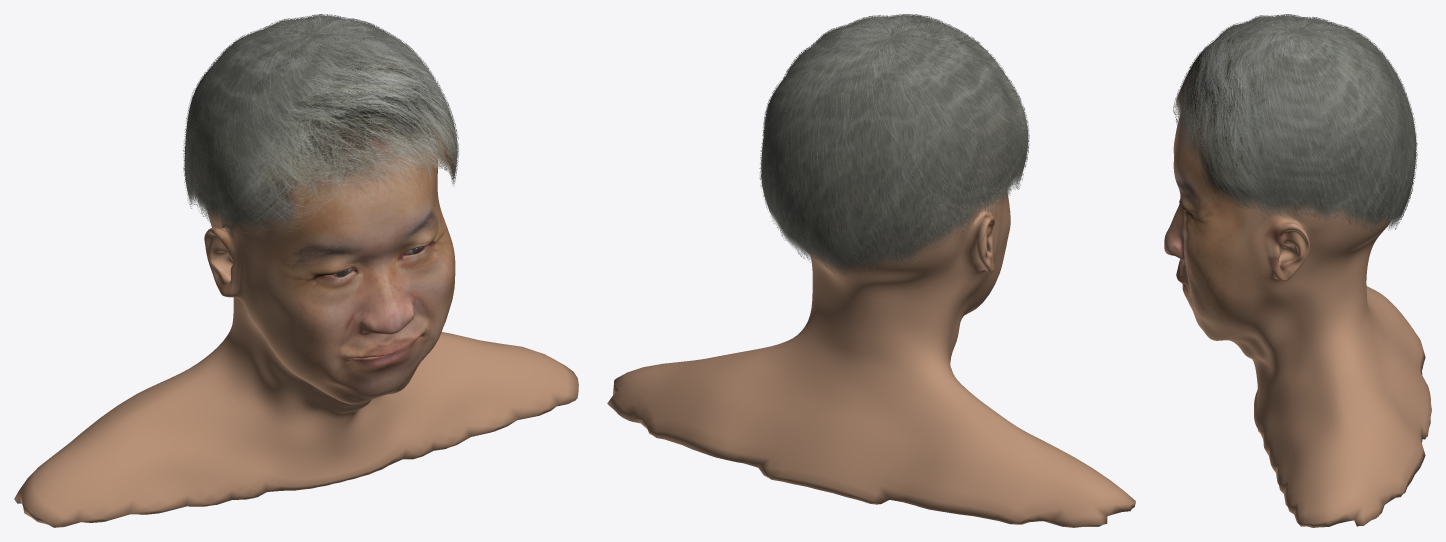
The model's file is director_wu.glb.
The picture shows the model from 3 angles, left to right: view 1: azimuth 30°, elevation 25°; view 2: azimuth 150°, elevation 25°; view 3: azimuth 270°, elevation 25°; orthographic projection. The views are drawn at different scales.
Visible parts, largest first — view 1: anatomy_head_and_neck, detail_hair_foundation, detail_short_silver_groom; view 2: anatomy_head_and_neck, detail_hair_foundation, detail_short_silver_groom; view 3: anatomy_head_and_neck, detail_hair_foundation, detail_short_silver_groom.
Part boxes in pixels (x1,y1,x2,y2): anatomy_head_and_neck: (14, 154, 578, 527); detail_hair_foundation: (184, 15, 457, 230); detail_short_silver_groom: (183, 14, 459, 233); anatomy_head_and_neck: (607, 190, 1135, 527); detail_hair_foundation: (761, 15, 1028, 272); detail_short_silver_groom: (759, 14, 1029, 275); anatomy_head_and_neck: (1164, 115, 1431, 527); detail_hair_foundation: (1175, 15, 1416, 228); detail_short_silver_groom: (1173, 14, 1417, 231).
Size of the model in its own units: 1 by 0.763 by 0.4791.
5 materials, 3 textured.
